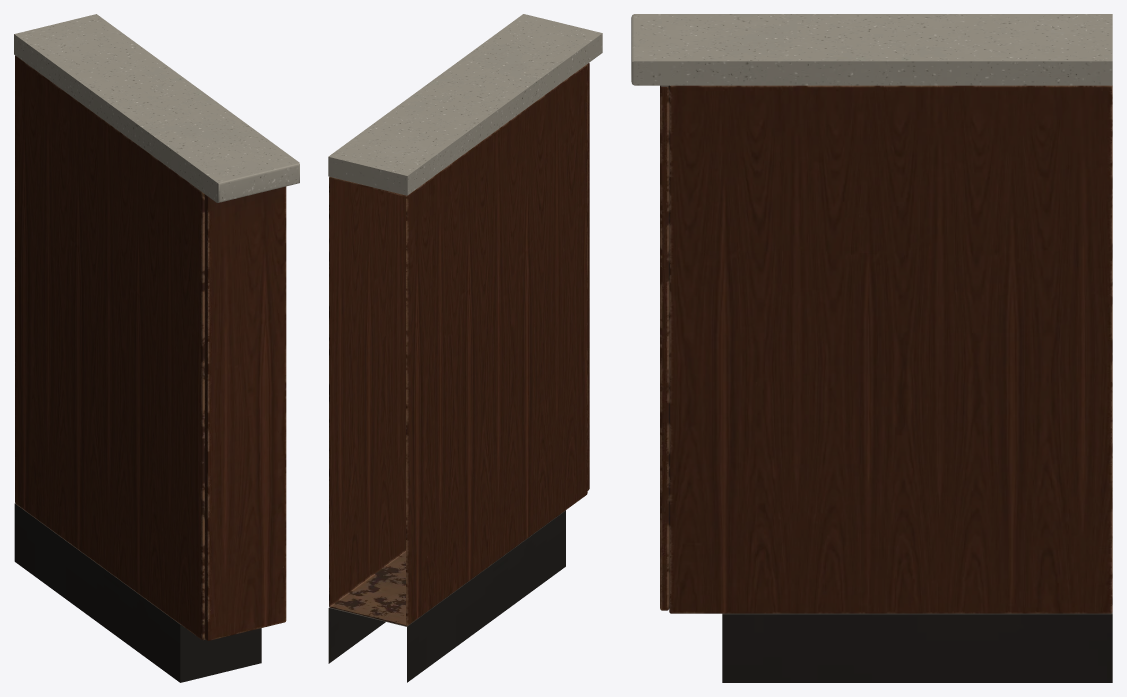
The model's file is kit_base_filler_15.glb.
3 renders of one model, left to right at view 1: azimuth 30°, elevation 25°; view 2: azimuth 150°, elevation 25°; view 3: azimuth 270°, elevation 25°, orthographic. The views are drawn at different scales.
Visible parts, largest first — view 1: kit_base_filler_15; view 2: kit_base_filler_15; view 3: kit_base_filler_15.
Part boxes in pixels (x1,y1,x2,y2): kit_base_filler_15: [14, 14, 299, 682]; kit_base_filler_15: [328, 14, 602, 682]; kit_base_filler_15: [631, 14, 1112, 682].
Size of the model in its own units: 0.148 by 0.905 by 0.635.
1 material, 1 textured.
